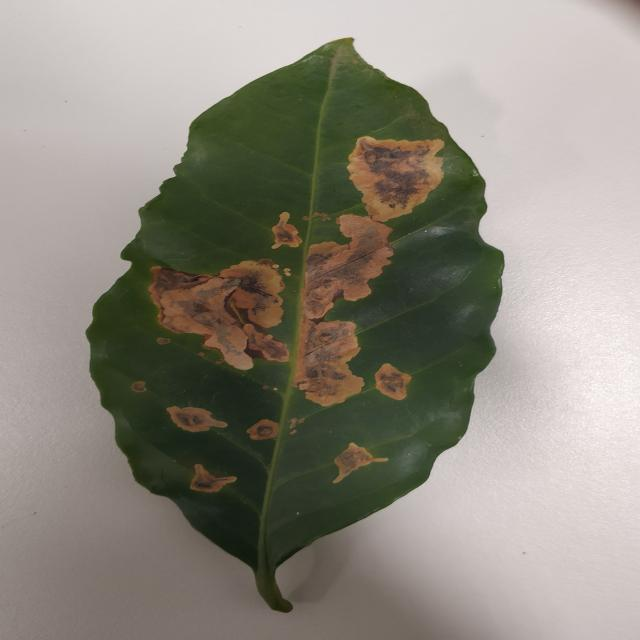Plaga-Minador: (84, 37, 505, 616)
